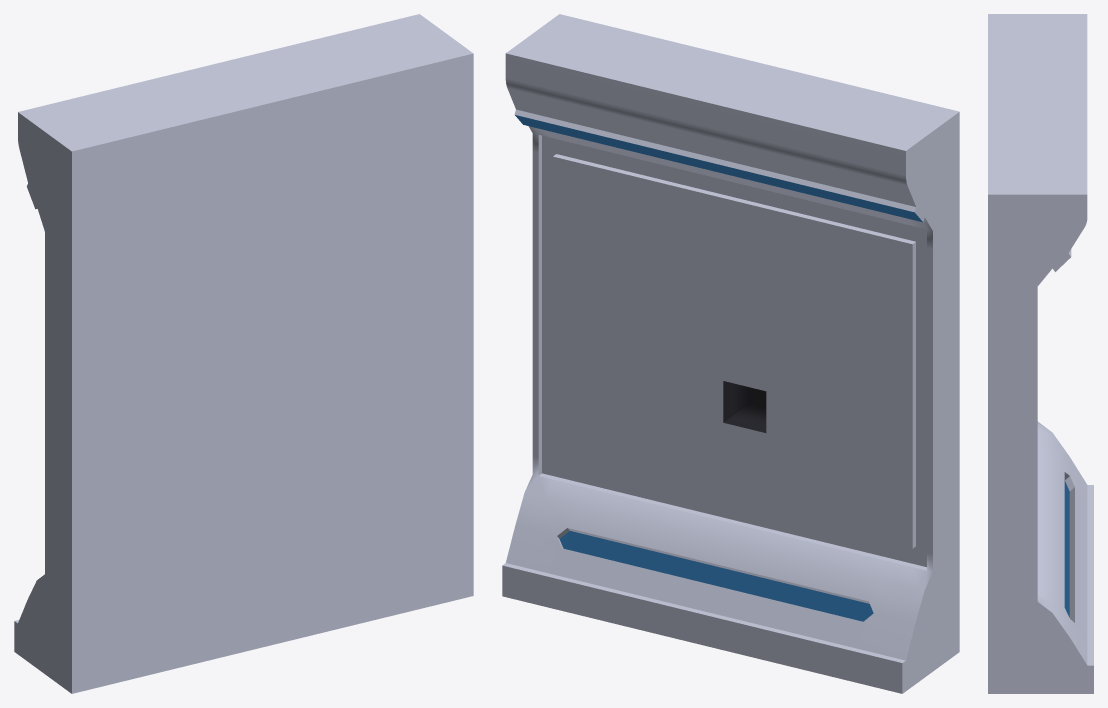
Rendered from WALL-safe.fbx.
3 renders of one model, left to right at view 1: azimuth 30°, elevation 25°; view 2: azimuth 150°, elevation 25°; view 3: azimuth 270°, elevation 25°, orthographic. The views are drawn at different scales.
Visible parts, largest first — view 1: Office_Room:wall8; view 2: Office_Room:wall8; view 3: Office_Room:wall8.
Part boxes in pixels (bbox=[...]): Office_Room:wall8: bbox=[14, 14, 473, 693]; Office_Room:wall8: bbox=[502, 14, 959, 693]; Office_Room:wall8: bbox=[988, 14, 1093, 693].
Bounding box in the file's own units: 8.69 × 11.21 × 2.16.
